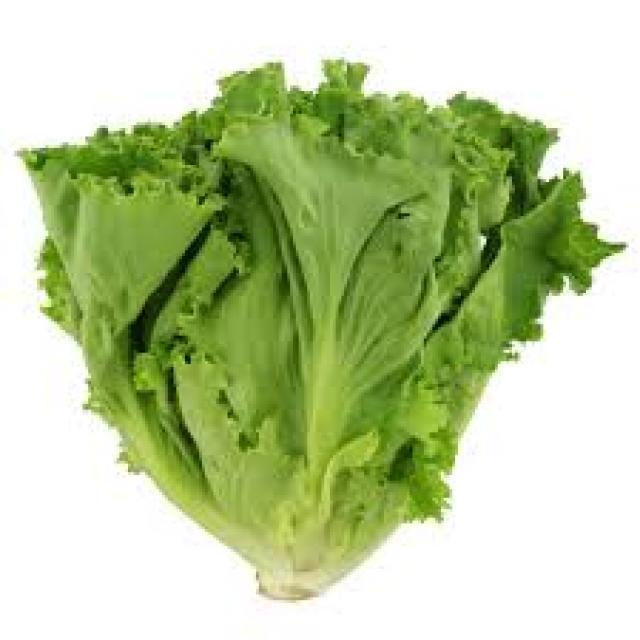Lettuce: (16, 53, 616, 602)
